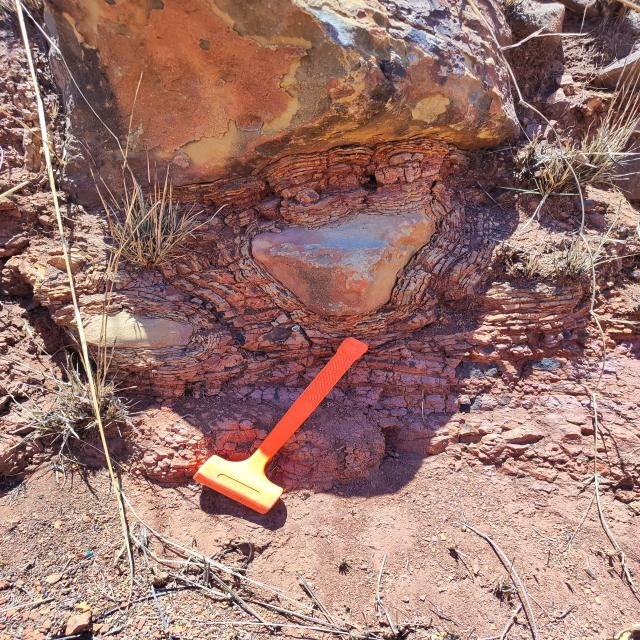Orange_hammer: (191, 336, 369, 515)
